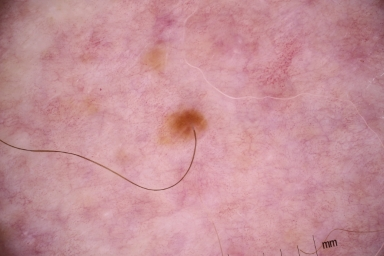melanoma: (166, 106, 209, 135)
